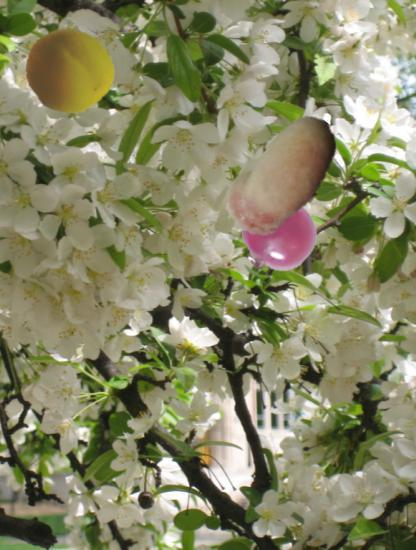Peach: (217, 108, 354, 245), (25, 26, 114, 115)
Redcurrant: (241, 199, 318, 276)
